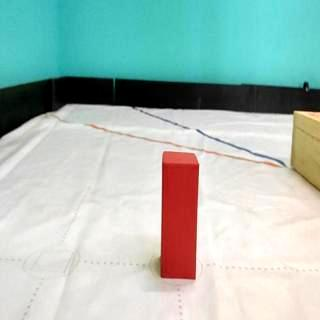redbox: (162, 151, 198, 278)
